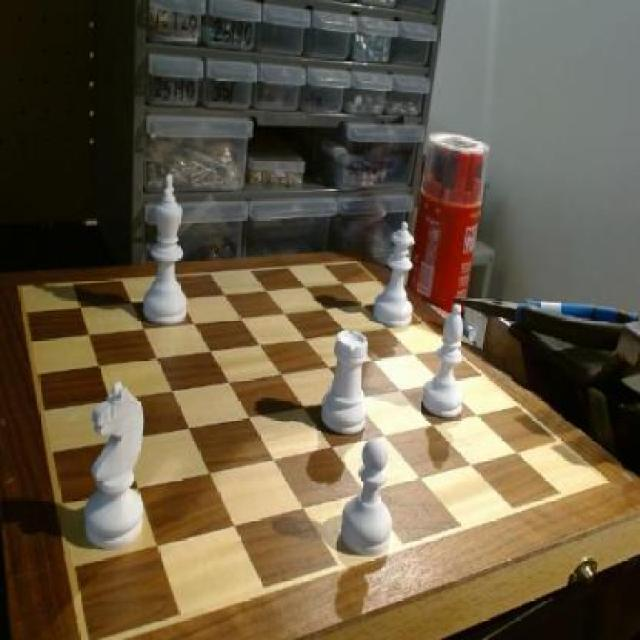black-rook: (431, 303, 464, 424)
white-bishop: (146, 174, 192, 328)
white-king: (80, 380, 148, 548)
white-knight: (342, 438, 394, 560)
white-pawn: (380, 222, 416, 331)
white-queen: (325, 324, 366, 440)
